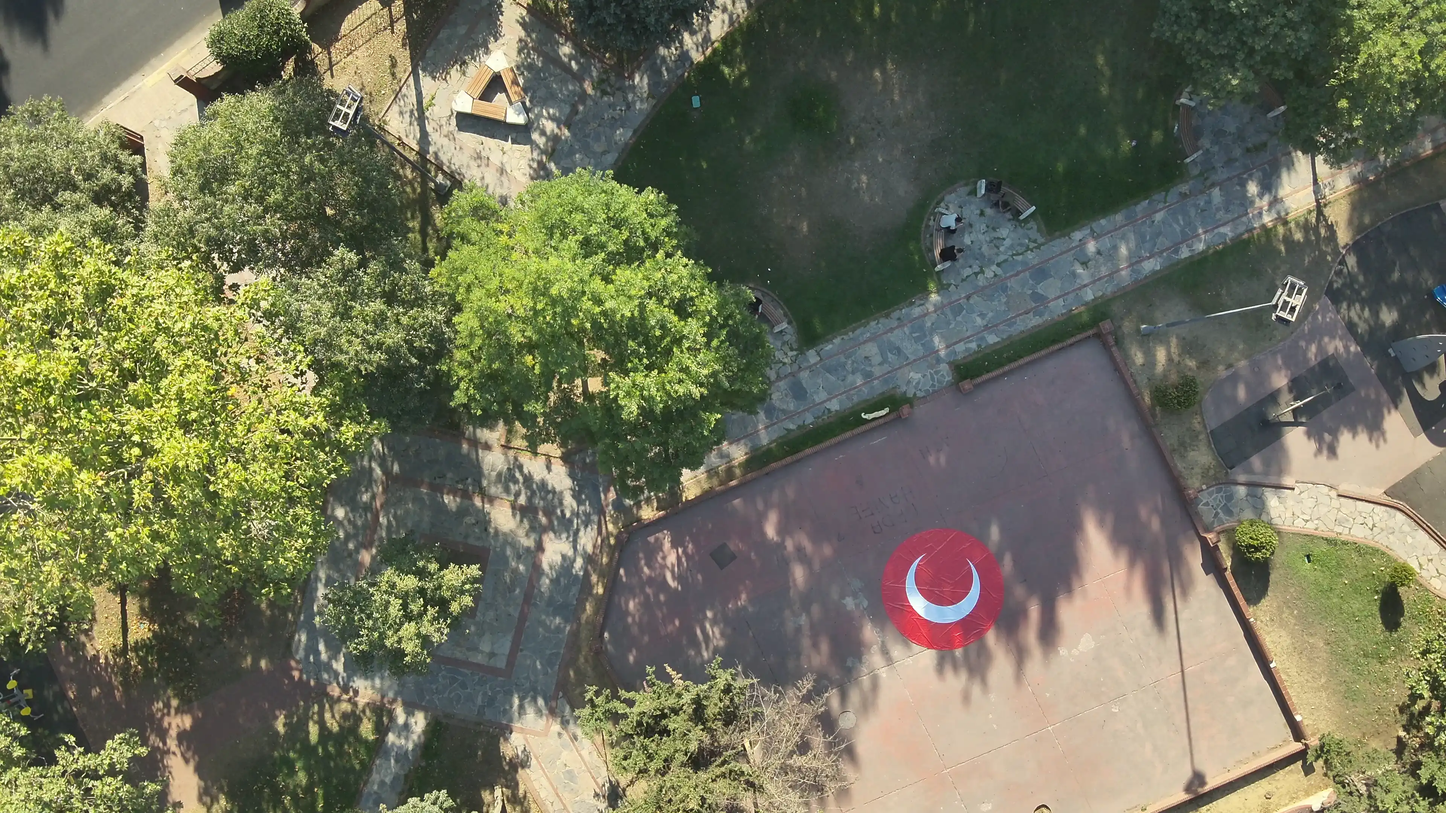person: (936, 211, 970, 238), (938, 242, 968, 266)
